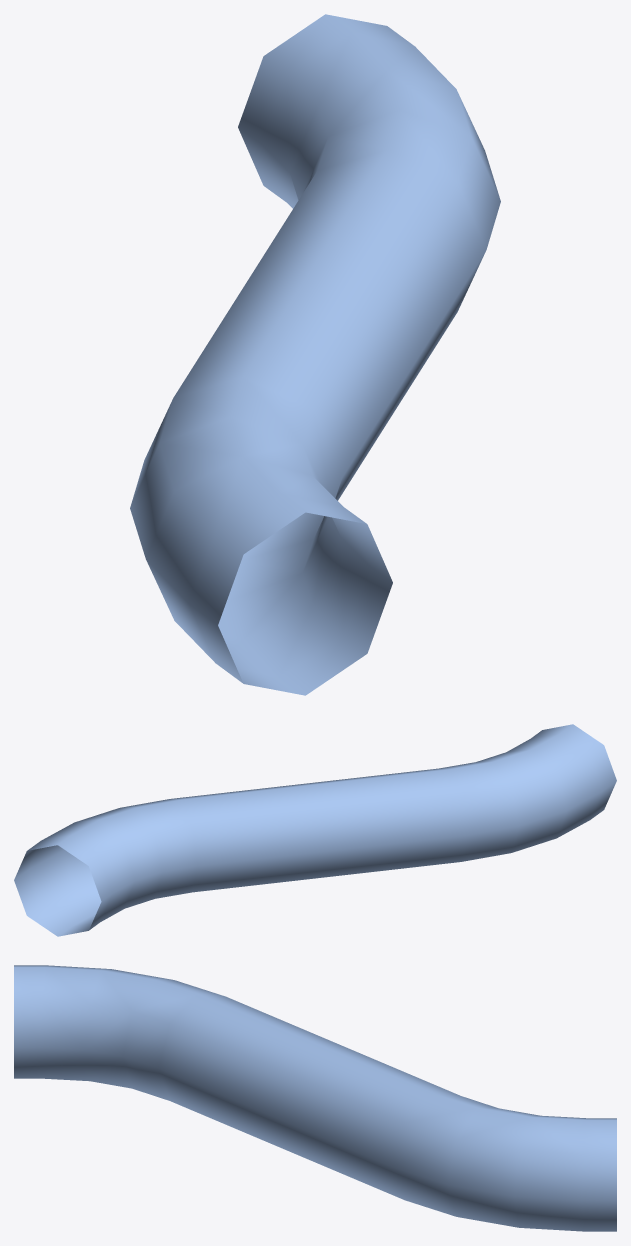
The model's file is PipeSmall_BentSpecial_07.fbx.
3 renders of one model, top to bottom at view 1: azimuth 30°, elevation 25°; view 2: azimuth 150°, elevation 25°; view 3: azimuth 270°, elevation 25°, orthographic. The views are drawn at different scales.
Parts seen in each view (by area): view 1: PipeSmall_BentSpecial_07.001; view 2: PipeSmall_BentSpecial_07.001; view 3: PipeSmall_BentSpecial_07.001.
Boxes of the visible parts, x1,y1,x2,y2 form: PipeSmall_BentSpecial_07.001: (130,14,500,695); PipeSmall_BentSpecial_07.001: (14,724,616,936); PipeSmall_BentSpecial_07.001: (14,965,616,1231).
Bounding box in the file's own units: 0.4 × 0.1 × 0.5.
